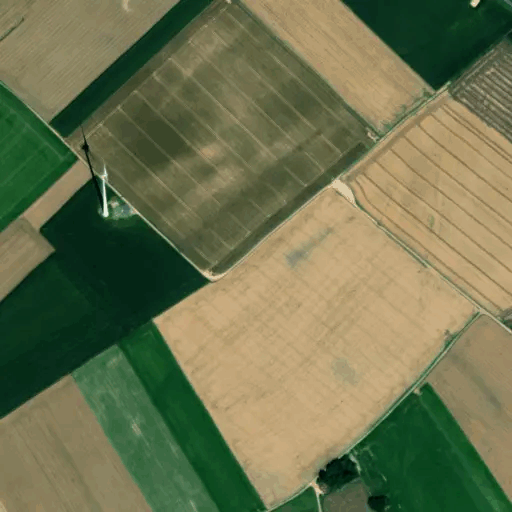wt: (76, 123, 123, 226)
